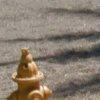Hydrant: (5, 42, 53, 100)
